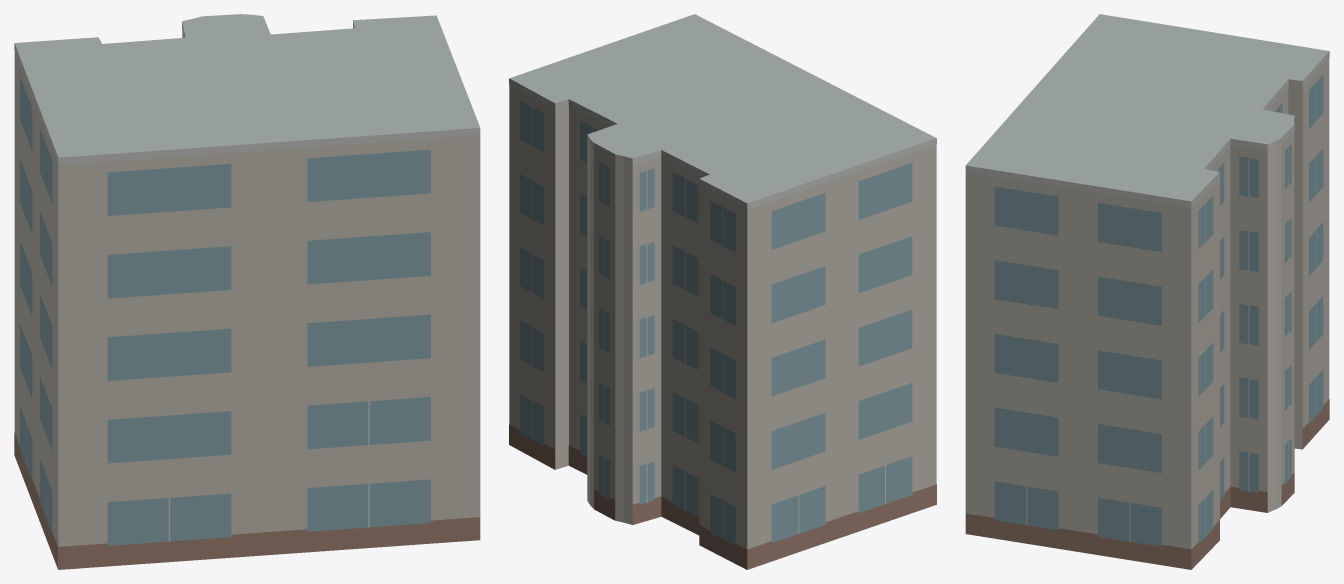
File: survey-upis-32875945.glb
The picture shows the model from 3 angles, left to right: view 1: azimuth 30°, elevation 25°; view 2: azimuth 150°, elevation 25°; view 3: azimuth 270°, elevation 25°; orthographic projection. The views are drawn at different scales.
Visible parts, largest first — view 1: survey-upis-32875945.tmp; view 2: survey-upis-32875945.tmp; view 3: survey-upis-32875945.tmp.
Boxes of the visible parts, <box> form: survey-upis-32875945.tmp: <box>14,14,480,569</box>; survey-upis-32875945.tmp: <box>509,14,936,569</box>; survey-upis-32875945.tmp: <box>965,14,1329,569</box>.
Size of the model in its own units: 15.06 by 13.8 by 12.36.
